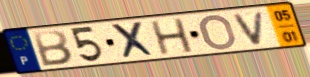5: (69, 24, 105, 64)
B: (31, 29, 75, 68)
H: (148, 16, 196, 57)
O: (198, 13, 239, 52)
V: (231, 9, 267, 47)
X: (108, 20, 159, 61)
